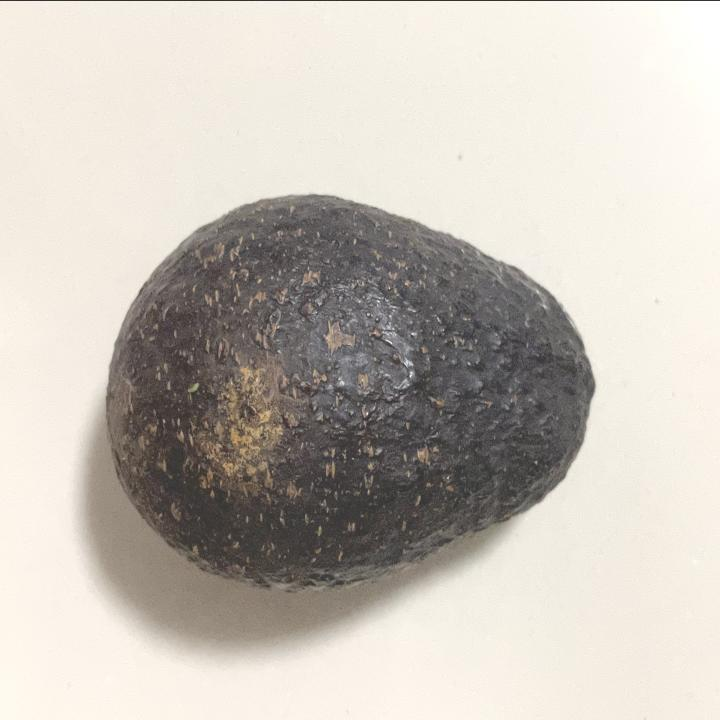Level3: (97, 177, 610, 606)
